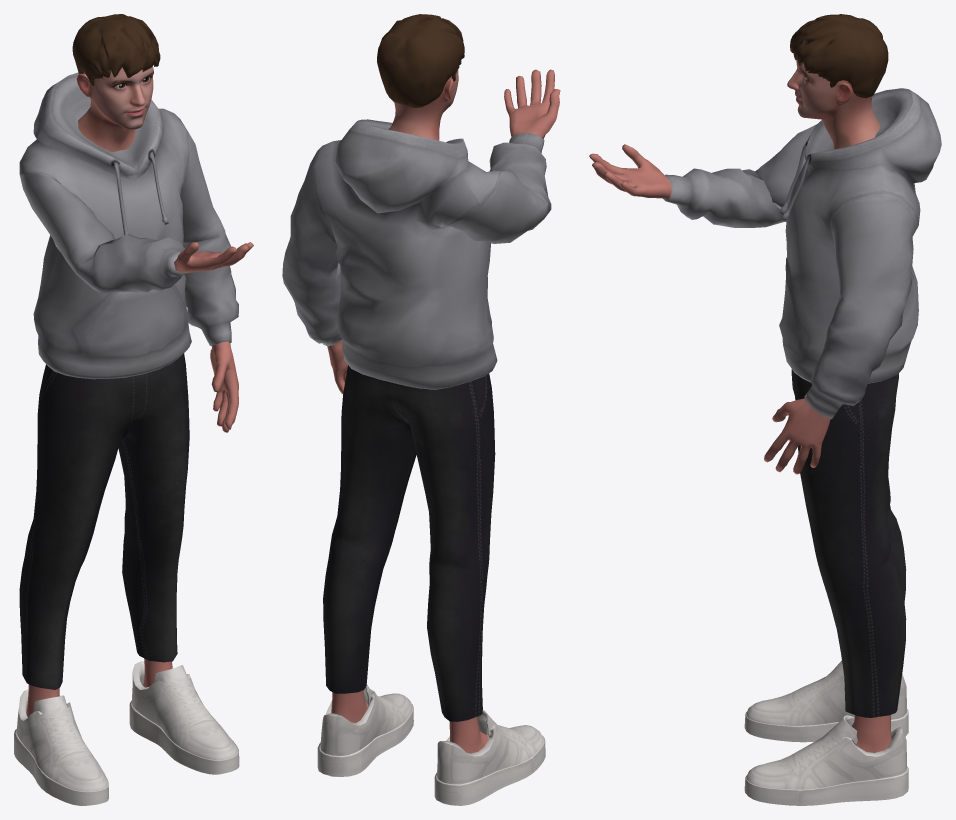
Rendered from dante1.glb.
The picture shows the model from 3 angles, left to right: view 1: azimuth 30°, elevation 25°; view 2: azimuth 150°, elevation 25°; view 3: azimuth 270°, elevation 25°; orthographic projection.
Visible parts, largest first — view 1: Wolf3D_Outfit_Top, Wolf3D_Outfit_Bottom, Wolf3D_Outfit_Footwear, Wolf3D_Head, Wolf3D_Hair, Wolf3D_Body; view 2: Wolf3D_Outfit_Top, Wolf3D_Outfit_Bottom, Wolf3D_Outfit_Footwear, Wolf3D_Hair, Wolf3D_Body, Wolf3D_Head; view 3: Wolf3D_Outfit_Top, Wolf3D_Outfit_Bottom, Wolf3D_Outfit_Footwear, Wolf3D_Body, Wolf3D_Hair, Wolf3D_Head.
Boxes of the visible parts, x1,y1,x2,y2 form: Wolf3D_Outfit_Top: [19, 72, 238, 379]; Wolf3D_Outfit_Bottom: [19, 353, 189, 689]; Wolf3D_Outfit_Footwear: [14, 661, 239, 805]; Wolf3D_Head: [76, 66, 153, 152]; Wolf3D_Hair: [72, 14, 160, 86]; Wolf3D_Body: [26, 242, 253, 716]; Wolf3D_Outfit_Top: [282, 119, 551, 389]; Wolf3D_Outfit_Bottom: [323, 365, 495, 721]; Wolf3D_Outfit_Footwear: [317, 684, 545, 805]; Wolf3D_Hair: [377, 14, 464, 107]; Wolf3D_Body: [327, 69, 560, 753]; Wolf3D_Head: [388, 69, 458, 140]; Wolf3D_Outfit_Top: [663, 88, 941, 419]; Wolf3D_Outfit_Bottom: [791, 369, 906, 717]; Wolf3D_Outfit_Footwear: [744, 660, 908, 805]; Wolf3D_Body: [589, 144, 891, 752]; Wolf3D_Hair: [790, 14, 888, 98]; Wolf3D_Head: [787, 59, 880, 149].
Bounding box in the file's own units: 0.5553 × 1.85 × 0.7965.
8 materials, 8 textured.
